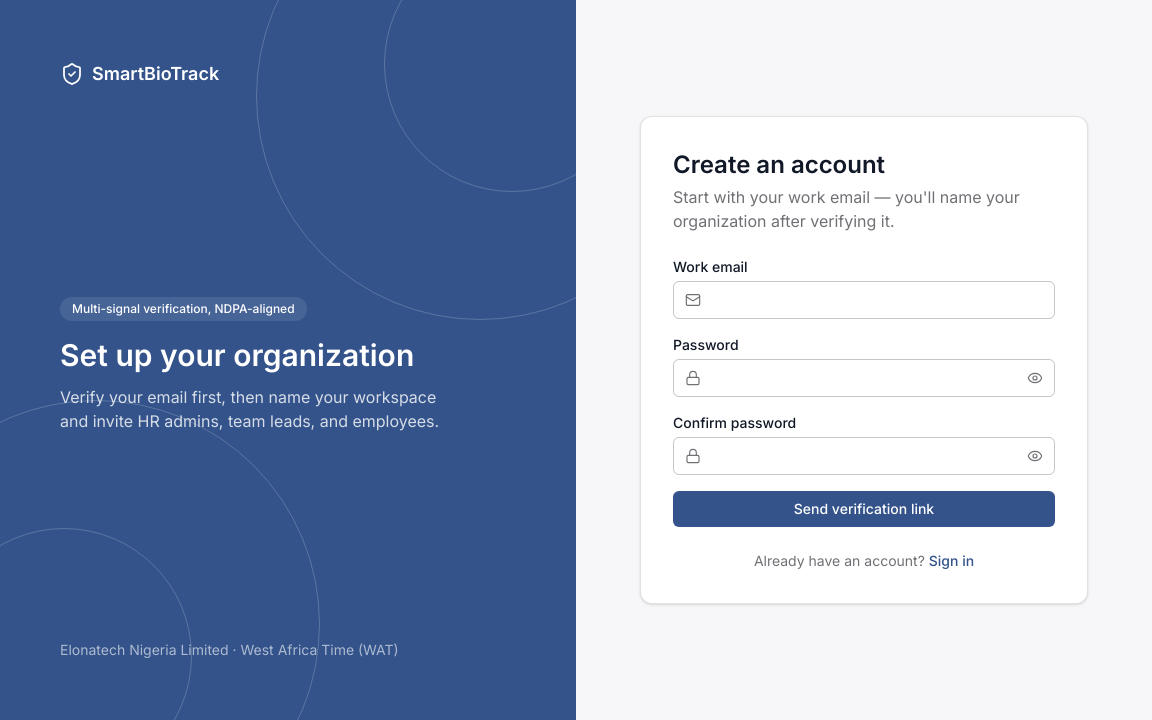
submitting the form › confirms without creating a session
Type "founder@acme.test" into the field labelled "Work email". click: (864, 300)
box: [673,281,1055,319]
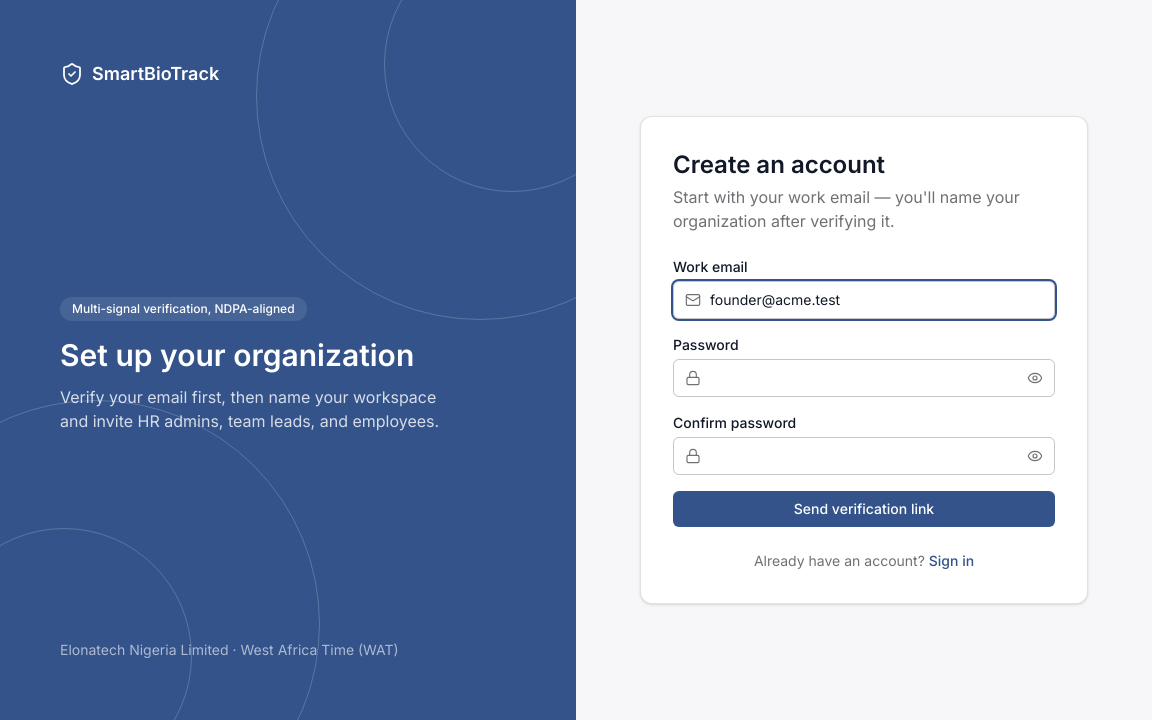
Type "Passw0rd!x" into the password field labelled "Password". click: (864, 378)
box: [673,359,1055,397]
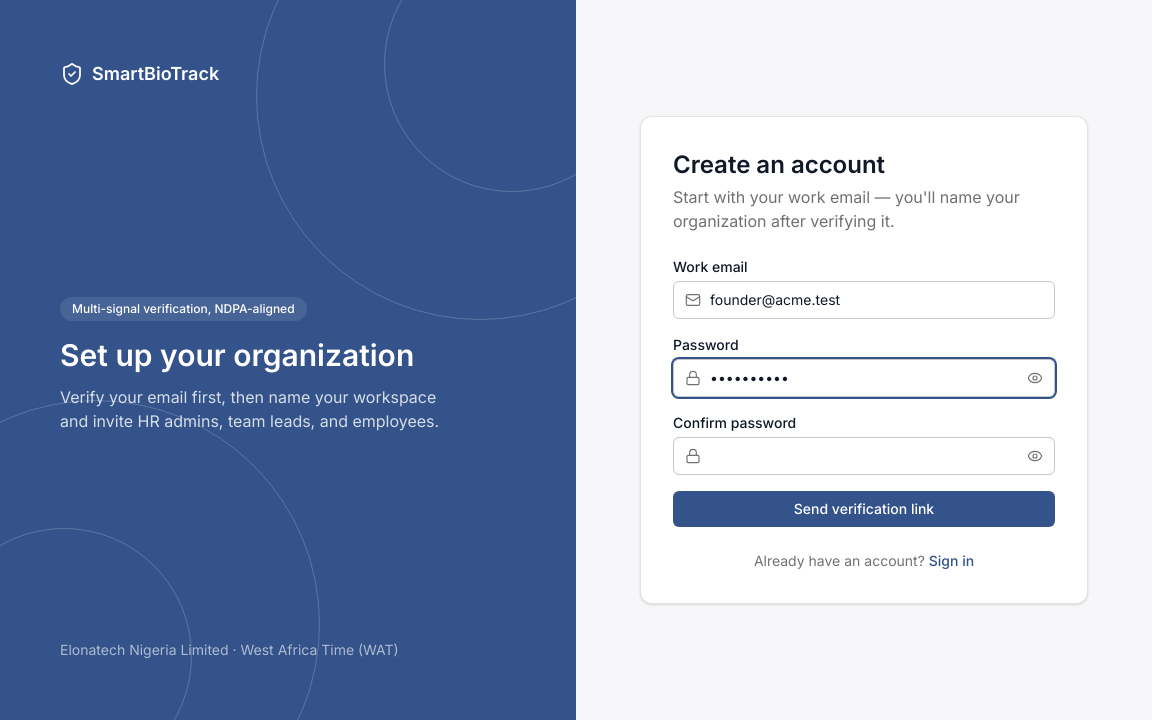
Type "Passw0rd!x" into the password field labelled "Confirm password". click: (864, 456)
box: [673,437,1055,475]
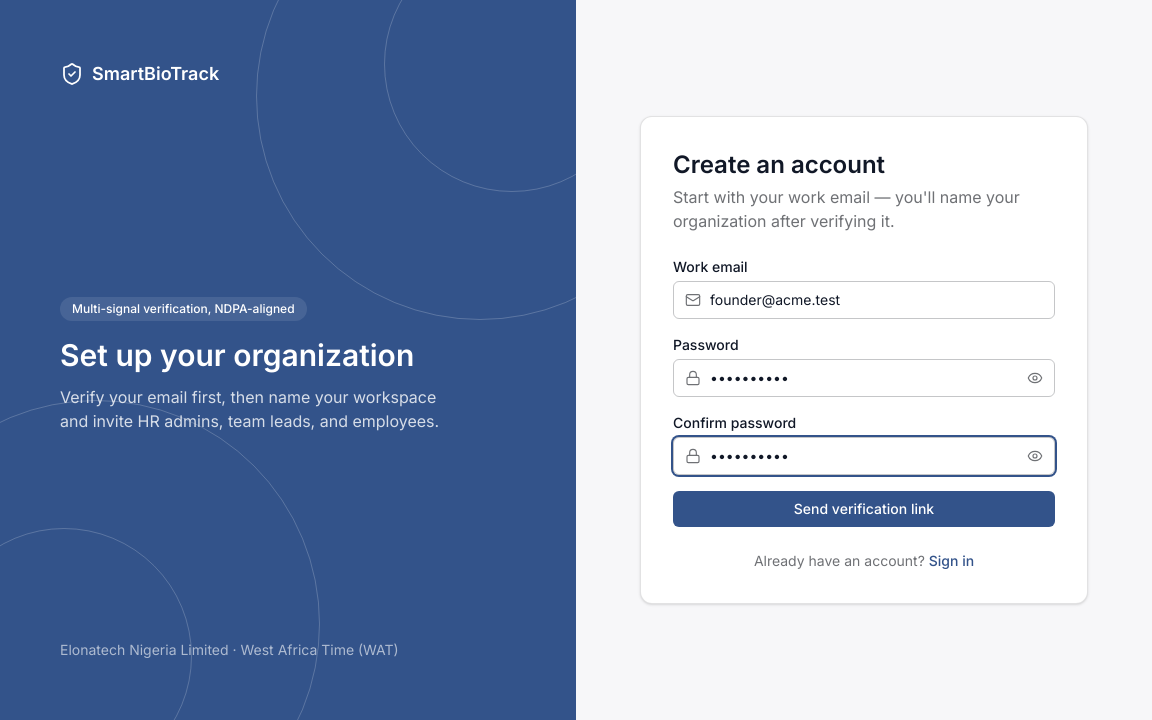
Click the button "Send verification link". click: (864, 509)
box: [673,491,1055,527]
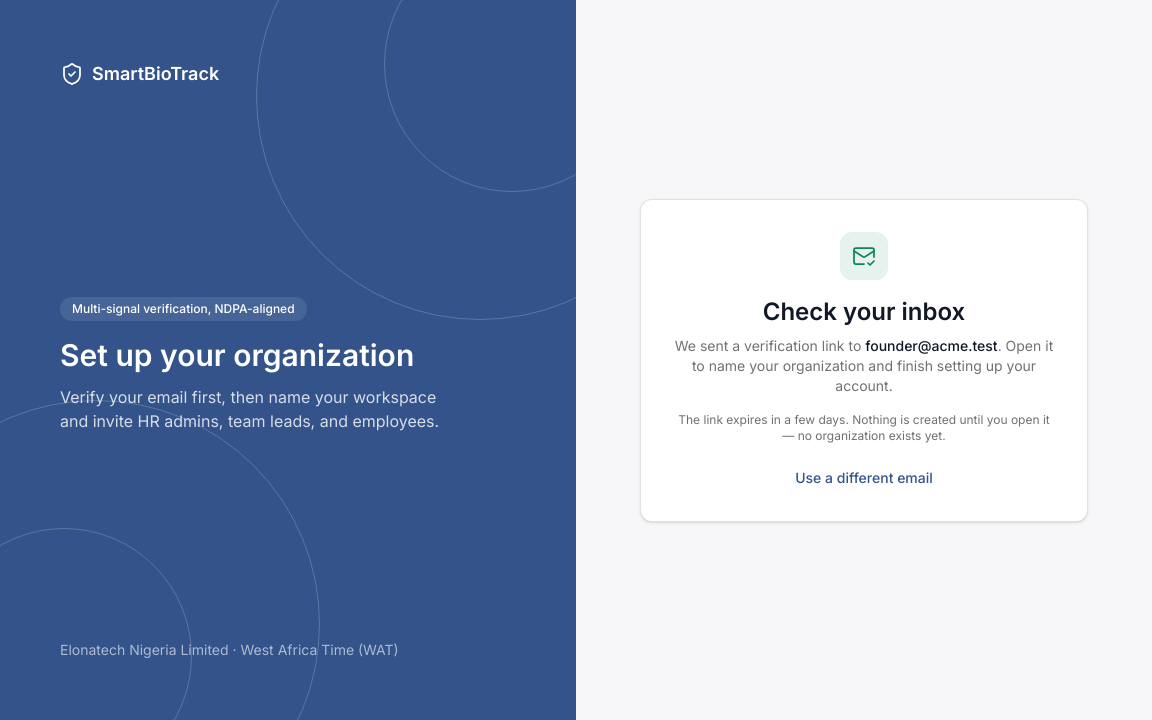
Expected: the heading "Check your inbox" is shown, [763,296,965,326]
